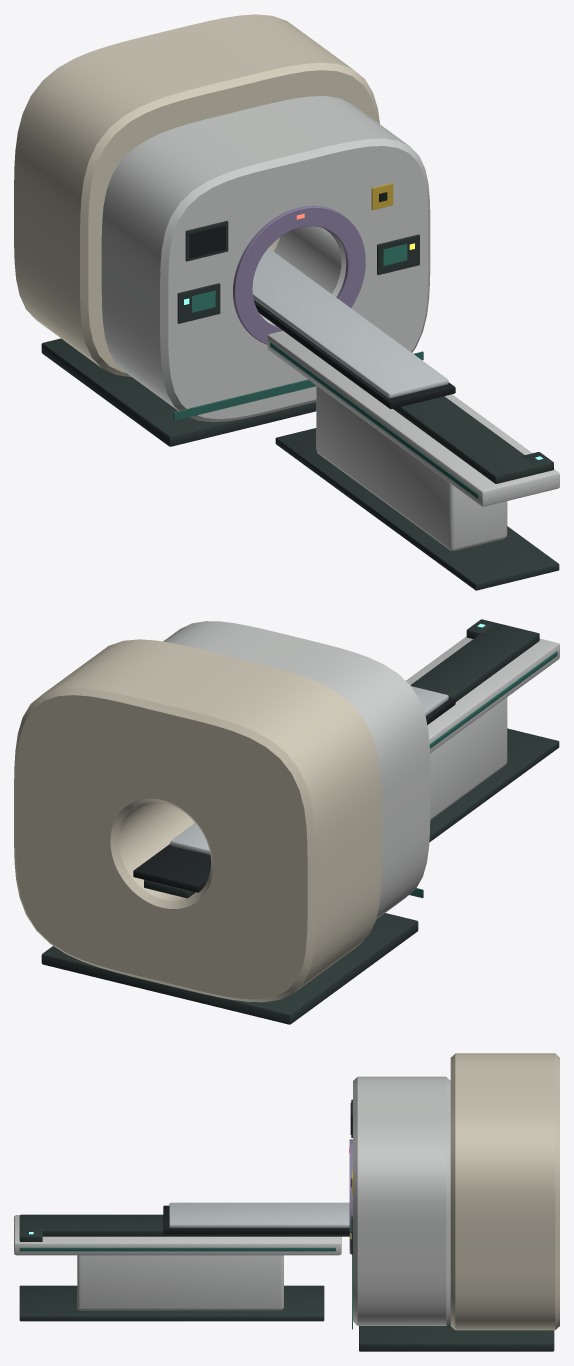
Rendered from pet-ct-scanner.glb.
The picture shows the model from 3 angles, top to bottom: view 1: azimuth 30°, elevation 25°; view 2: azimuth 150°, elevation 25°; view 3: azimuth 270°, elevation 25°; orthographic projection. The views are drawn at different scales.
Visible parts, largest first — view 1: pet-ct-scanner; view 2: pet-ct-scanner; view 3: pet-ct-scanner.
Boxes of the visible parts, bbox=[...] form: pet-ct-scanner: bbox=[14, 14, 559, 590]; pet-ct-scanner: bbox=[14, 619, 559, 1024]; pet-ct-scanner: bbox=[14, 1053, 559, 1351].
Bounding box in the file's own units: 2.3 × 2.12 × 4.75.
